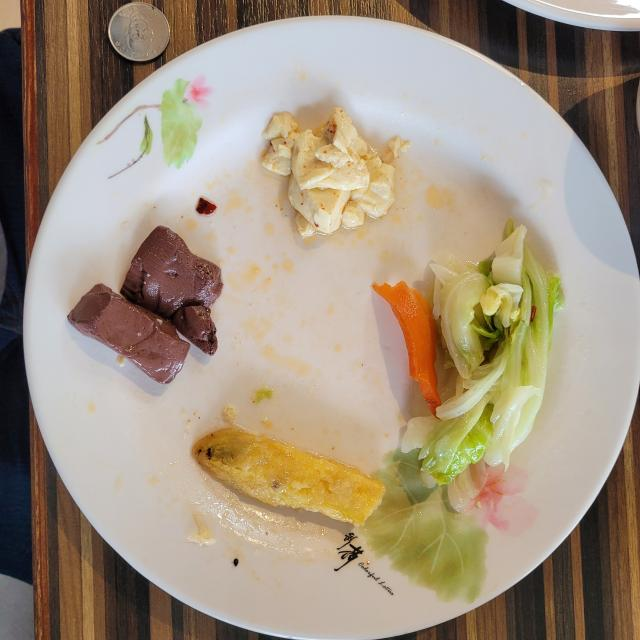cabbage: (374, 220, 564, 522)
coin: (108, 2, 170, 61)
pig blood curd: (68, 226, 222, 384)
